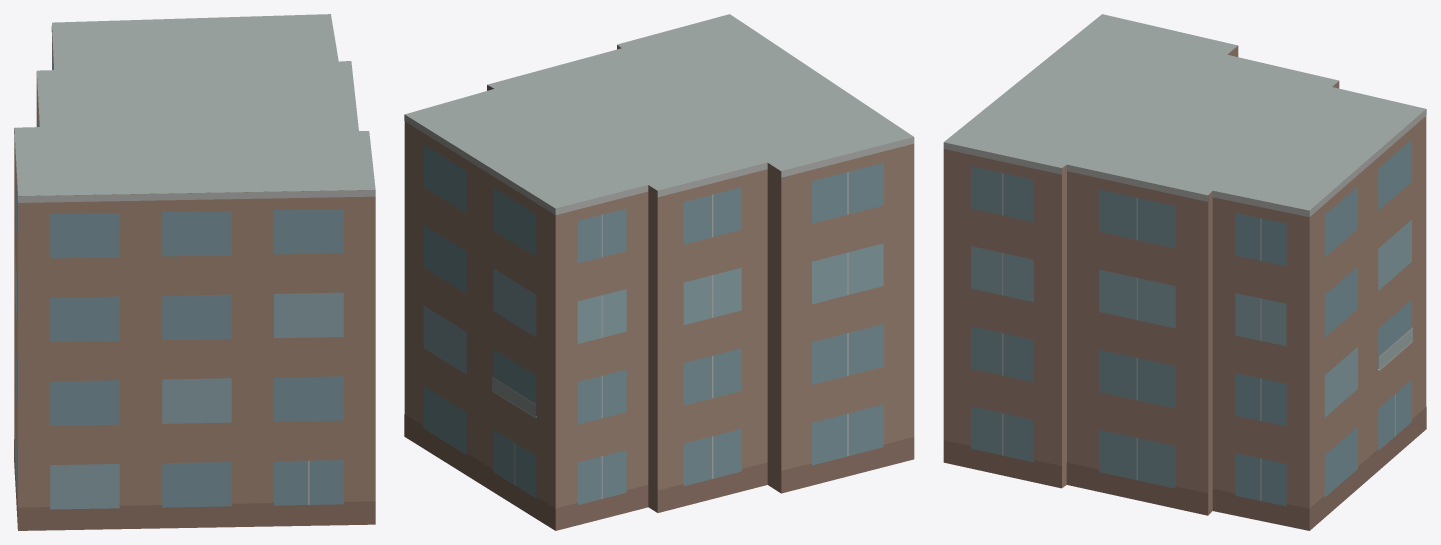
Rendered from survey-upis-32807333.glb.
3 views of the same model, side by side, from view 1: azimuth 30°, elevation 25°; view 2: azimuth 150°, elevation 25°; view 3: azimuth 270°, elevation 25° (orthographic). The views are drawn at different scales.
Visible parts, largest first — view 1: survey-upis-32807333.tmp; view 2: survey-upis-32807333.tmp; view 3: survey-upis-32807333.tmp.
Boxes of the visible parts, bbox=[...] form: survey-upis-32807333.tmp: bbox=[14, 14, 375, 530]; survey-upis-32807333.tmp: bbox=[404, 14, 914, 530]; survey-upis-32807333.tmp: bbox=[943, 14, 1426, 530].
Size of the model in its own units: 15.74 by 11.95 by 16.34.
